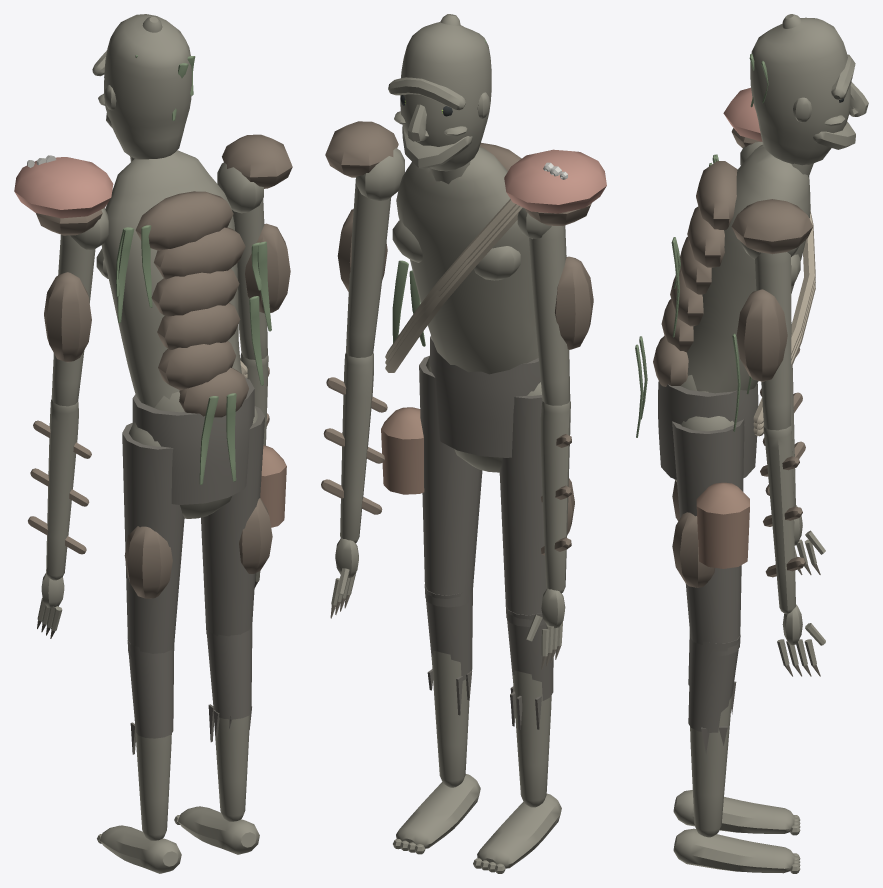
Rendered from en_climber.gltf.
3 views of the same model, side by side, from view 1: azimuth 30°, elevation 25°; view 2: azimuth 150°, elevation 25°; view 3: azimuth 270°, elevation 25° (orthographic). The views are drawn at different scales.
Parts seen in each view (by area): view 1: Spine, LegL, Head, ShinL, ShinR, LegR, Hips, ArmR, ArmL, ForeL, V3_Shell, V2_Lantern (+1 smaller); view 2: Spine, Head, ShinR, ShinL, LegR, ArmR, LegL, ArmL, Hips, ForeR, ForeL, V3_Shell (+3 smaller); view 3: Spine, Head, ShinR, LegR, ArmR, ForeR, Hips, V2_Lantern, ShinL, V1_Rope, ForeL, V3_Shell (+1 smaller).
Part boxes in pixels (box(x1,y1,x2,y2)): Spine: box(70, 150, 271, 484); LegL: box(122, 422, 184, 657); Head: box(92, 14, 195, 159); ShinL: box(97, 640, 181, 873); ShinR: box(174, 621, 259, 854); LegR: box(201, 406, 272, 638); Hips: box(132, 378, 254, 518); ArmR: box(222, 134, 292, 359); ArmL: box(36, 210, 102, 406); ForeL: box(28, 399, 91, 638); V3_Shell: box(14, 155, 113, 218); V2_Lantern: box(260, 445, 286, 527); Spine: box(356, 142, 551, 374); Head: box(388, 14, 491, 171); ShinR: box(393, 584, 480, 854); ShinL: box(473, 605, 561, 873); LegR: box(419, 355, 482, 607); ArmR: box(325, 121, 398, 357); LegL: box(499, 382, 574, 626); ArmL: box(525, 203, 593, 405); Hips: box(429, 335, 540, 472); ForeR: box(321, 352, 387, 618); ForeL: box(525, 400, 571, 669); V3_Shell: box(504, 149, 606, 213); Spine: box(635, 142, 813, 437); Head: box(749, 14, 868, 165); ShinR: box(673, 635, 800, 873); LegR: box(672, 416, 744, 656); ArmR: box(731, 199, 812, 430); ForeR: box(760, 423, 825, 676); Hips: box(658, 375, 758, 481); V2_Lantern: box(696, 482, 749, 568); ShinL: box(673, 630, 800, 835); V1_Rope: box(753, 210, 815, 436); ForeL: box(760, 348, 825, 574); V3_Shell: box(723, 87, 762, 141).
Size of the model in its own units: 0.6051 by 1.81 by 0.4581.
